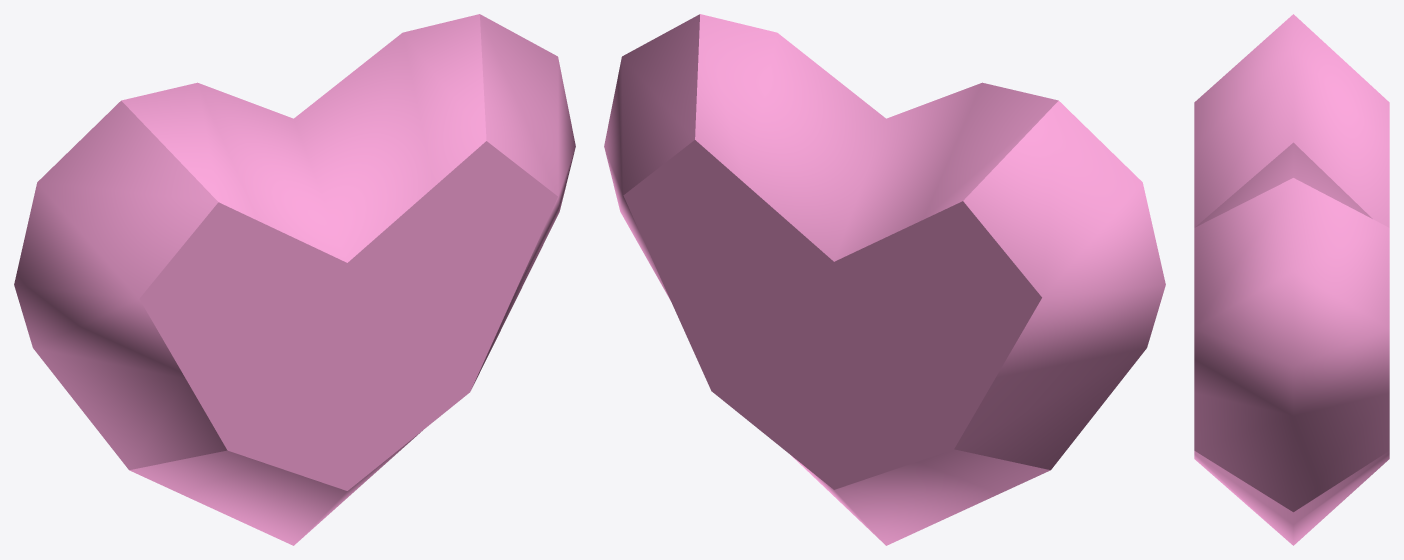
File: heart.fbx
The picture shows the model from 3 angles, left to right: view 1: azimuth 30°, elevation 25°; view 2: azimuth 150°, elevation 25°; view 3: azimuth 270°, elevation 25°; orthographic projection. The views are drawn at different scales.
Visible parts, largest first — view 1: pCube2; view 2: pCube2; view 3: pCube2.
Part boxes in pixels (x1=…): pCube2: x1=14, y1=14, x2=575, y2=545; pCube2: x1=604, y1=14, x2=1165, y2=545; pCube2: x1=1194, y1=14, x2=1389, y2=545.
Size of the model in its own units: 202 by 168 by 65.3.
